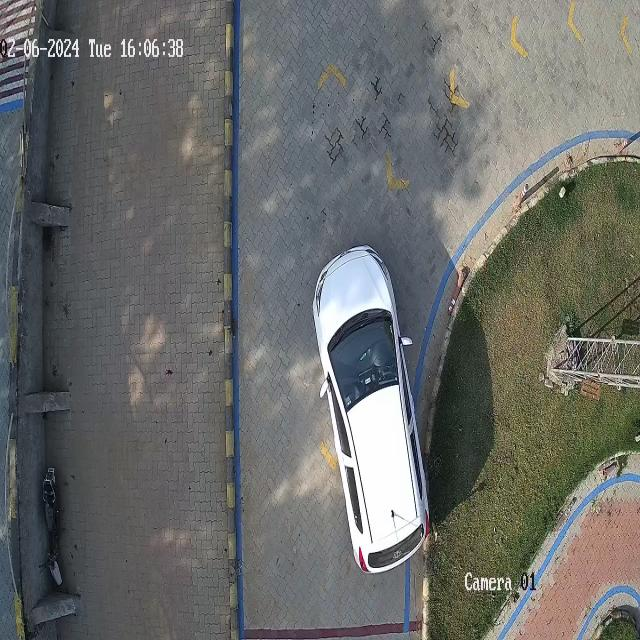car: (312, 247, 430, 573)
